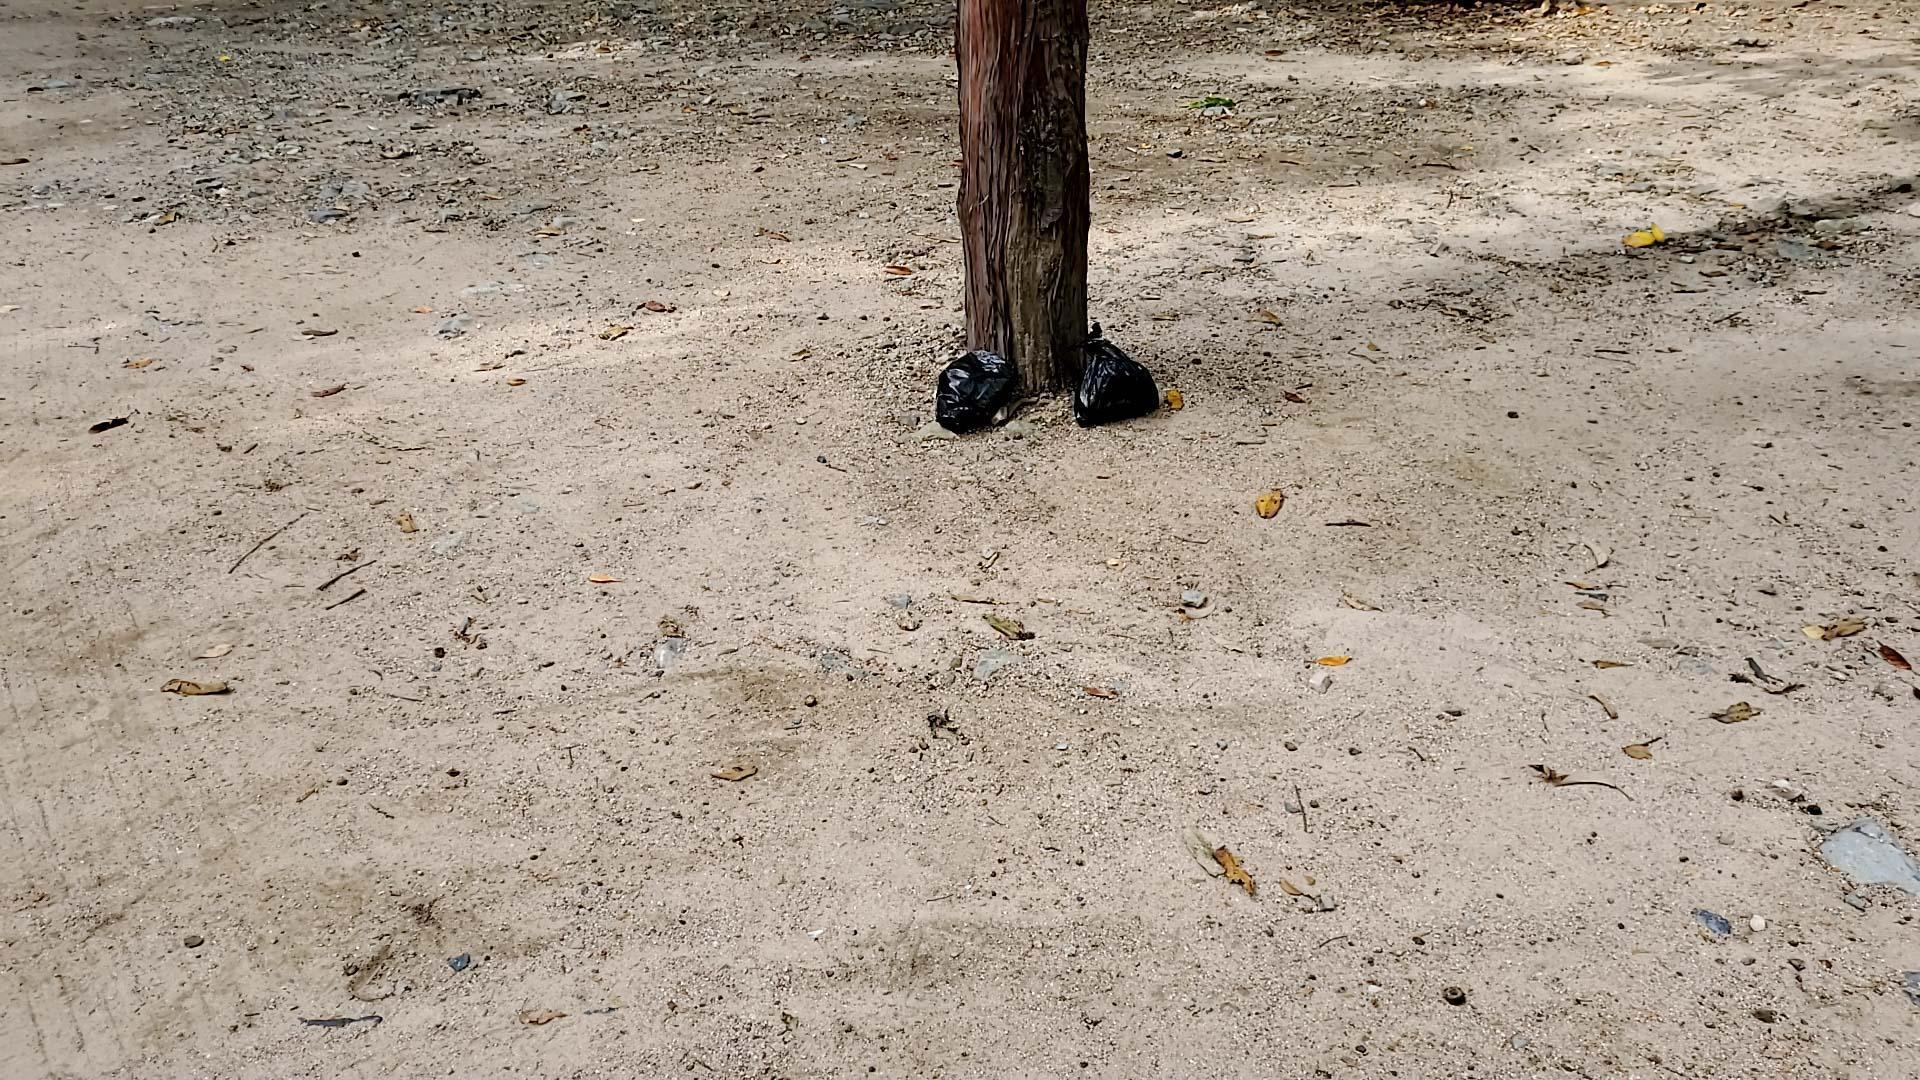black_bag: (1069, 316, 1163, 430), (931, 345, 1023, 433)
